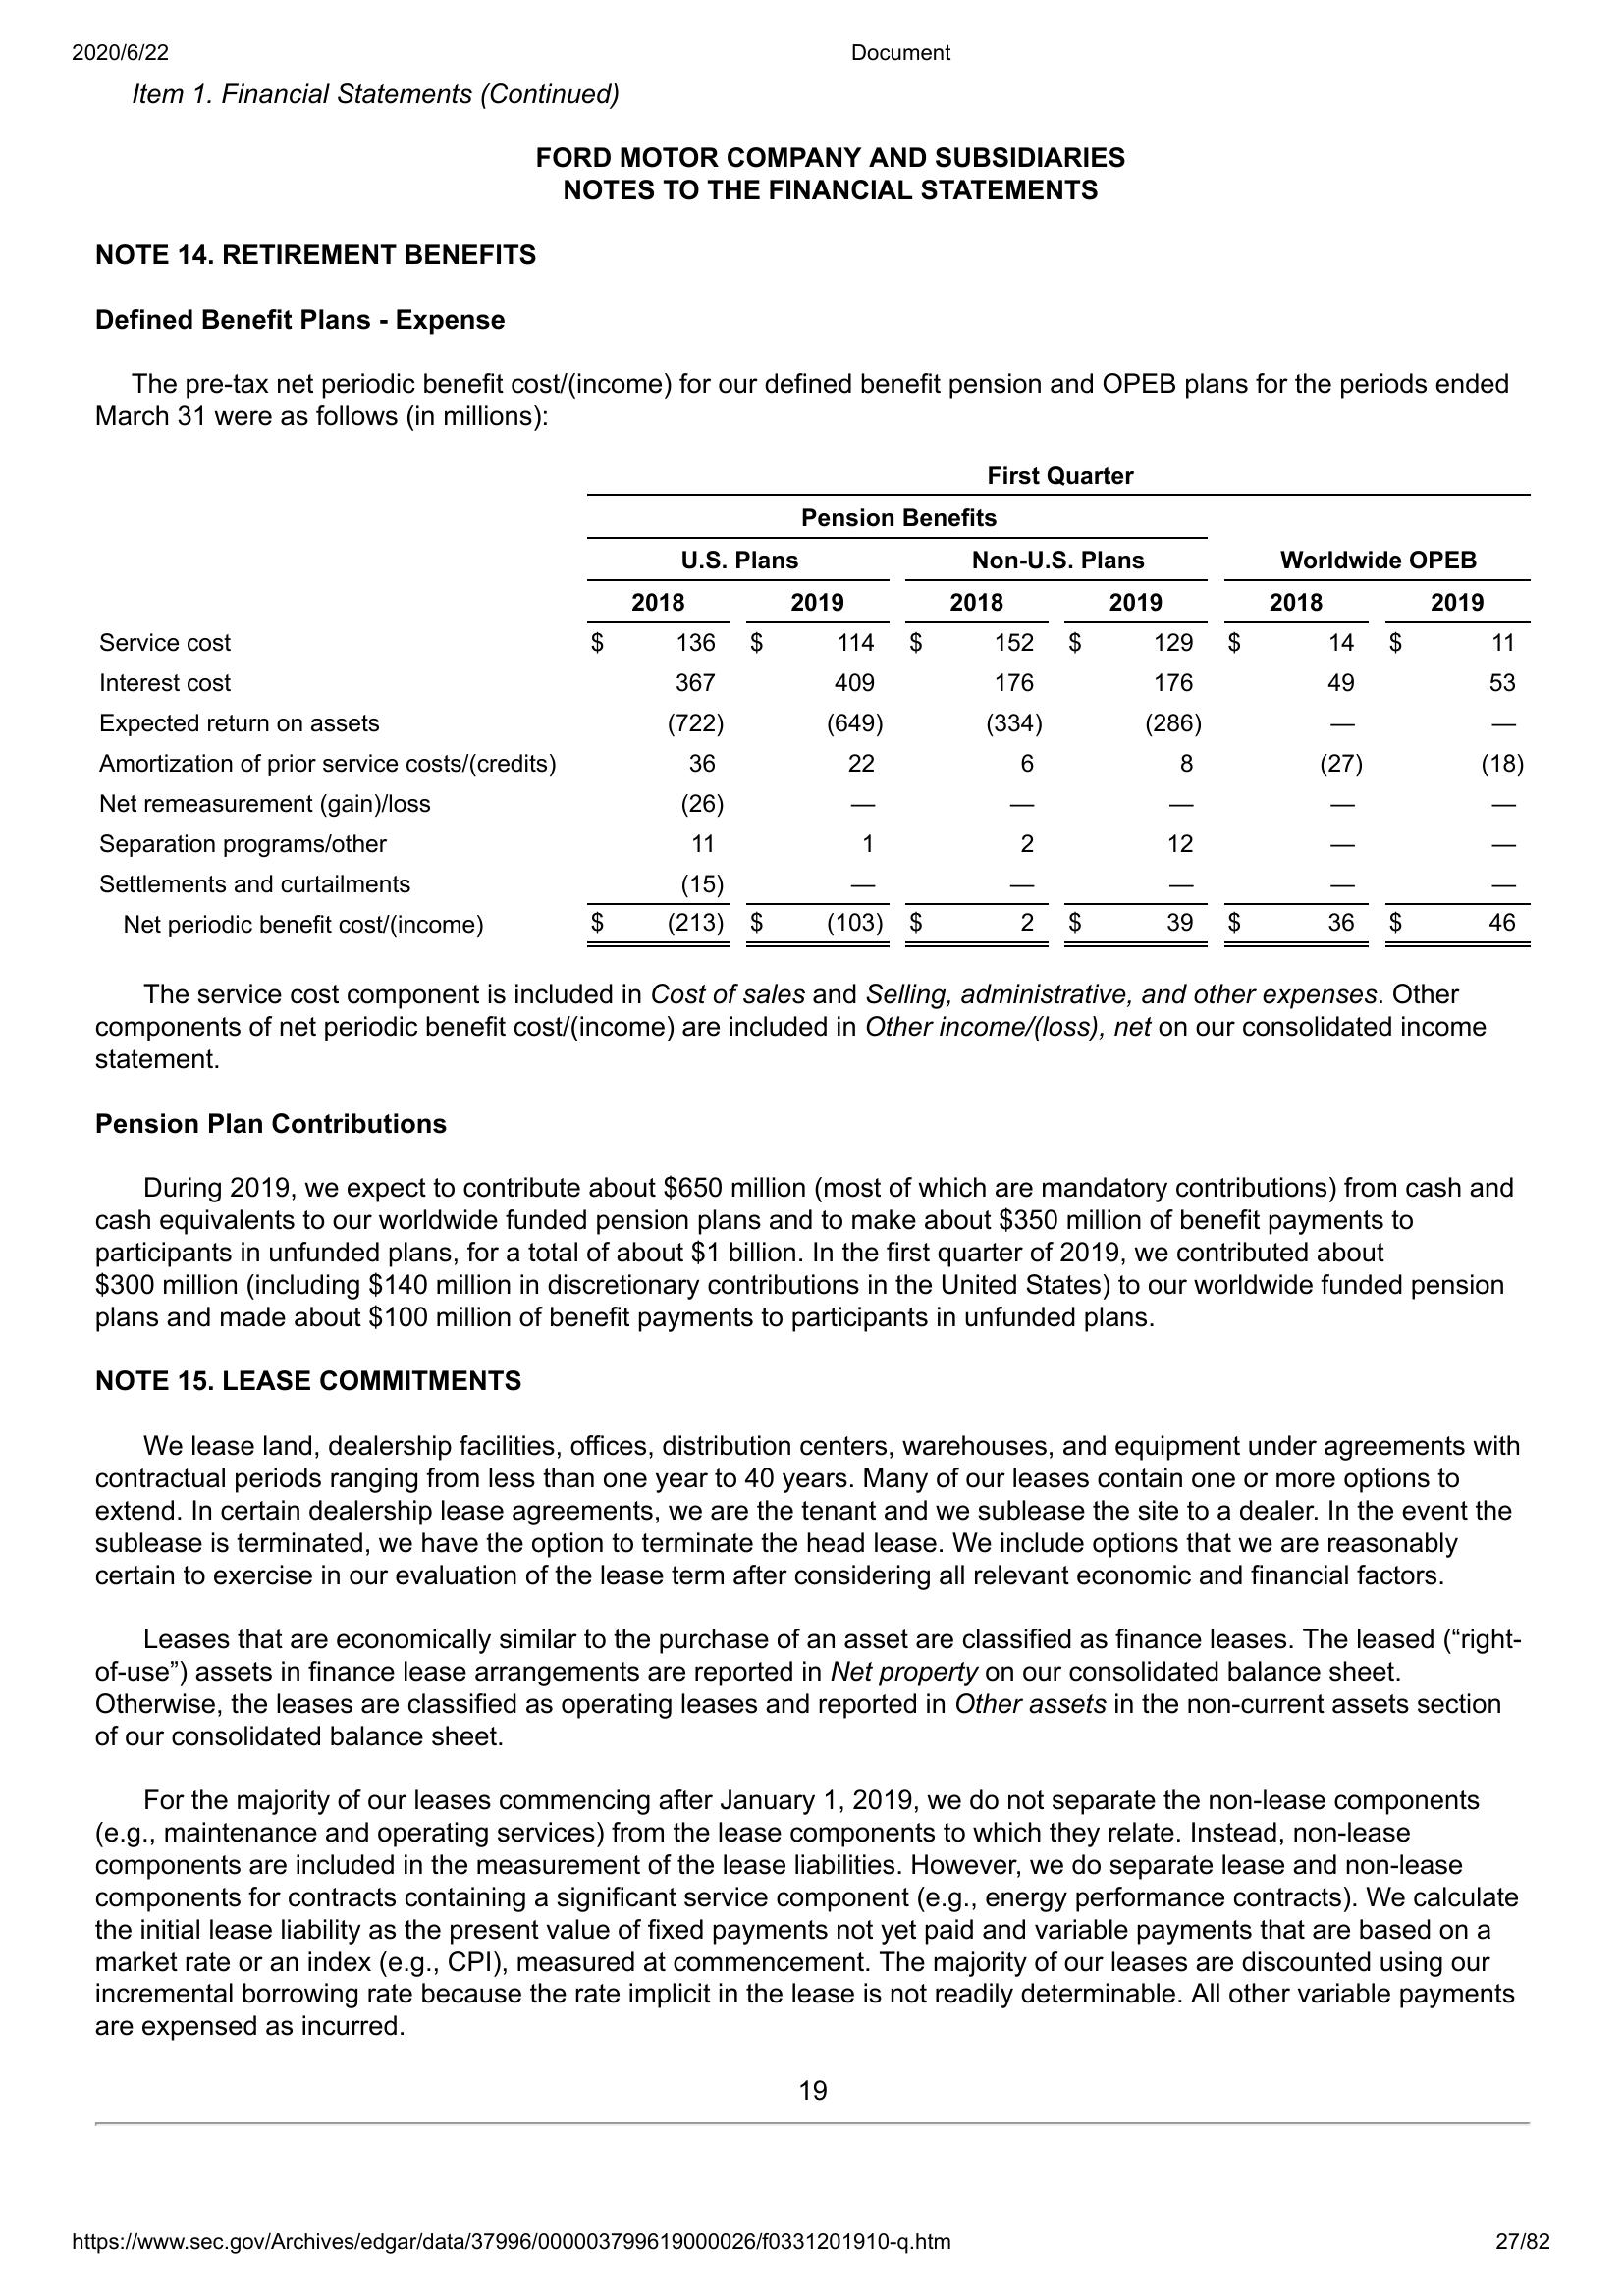table: (84, 449, 1535, 958)
